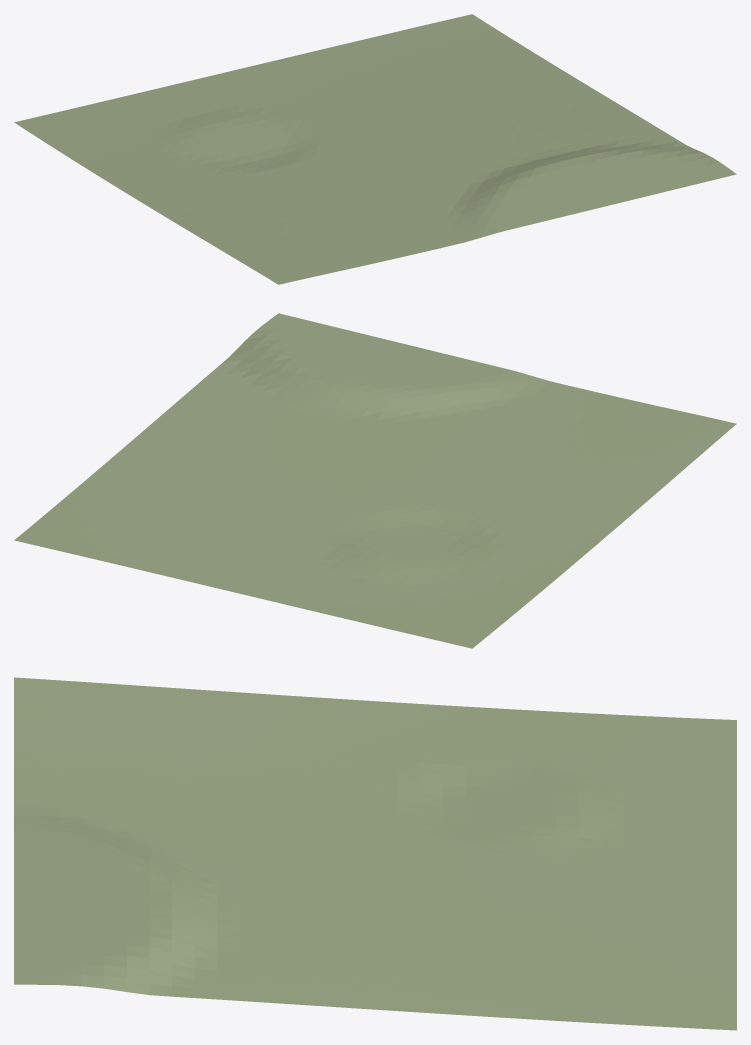
File: lunar-4-3.glb
The picture shows the model from 3 angles, top to bottom: view 1: azimuth 30°, elevation 25°; view 2: azimuth 150°, elevation 25°; view 3: azimuth 270°, elevation 25°; orthographic projection. The views are drawn at different scales.
Parts seen in each view (by area): view 1: lunar-4-3; view 2: lunar-4-3; view 3: lunar-4-3.
Boxes of the visible parts, x1=… form: lunar-4-3: x1=14, y1=14, x2=736, y2=284; lunar-4-3: x1=14, y1=313, x2=736, y2=648; lunar-4-3: x1=14, y1=677, x2=736, y2=1030.
Size of the model in its own units: 128 by 9.28 by 128.
